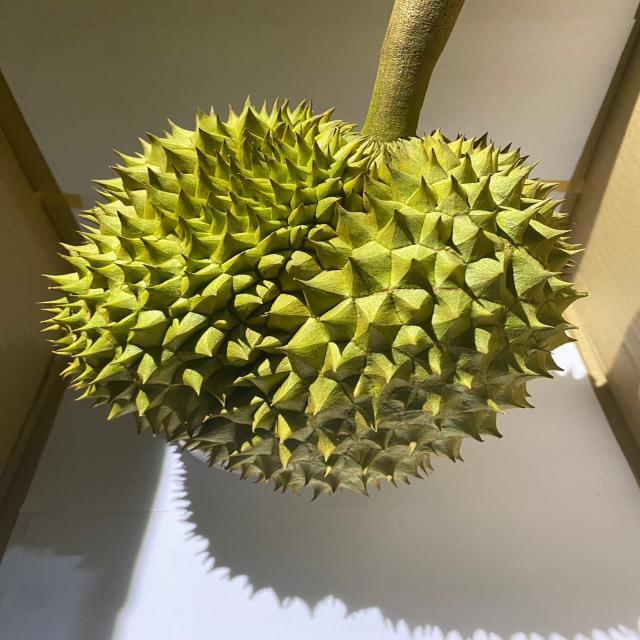immature: (28, 93, 592, 503)
